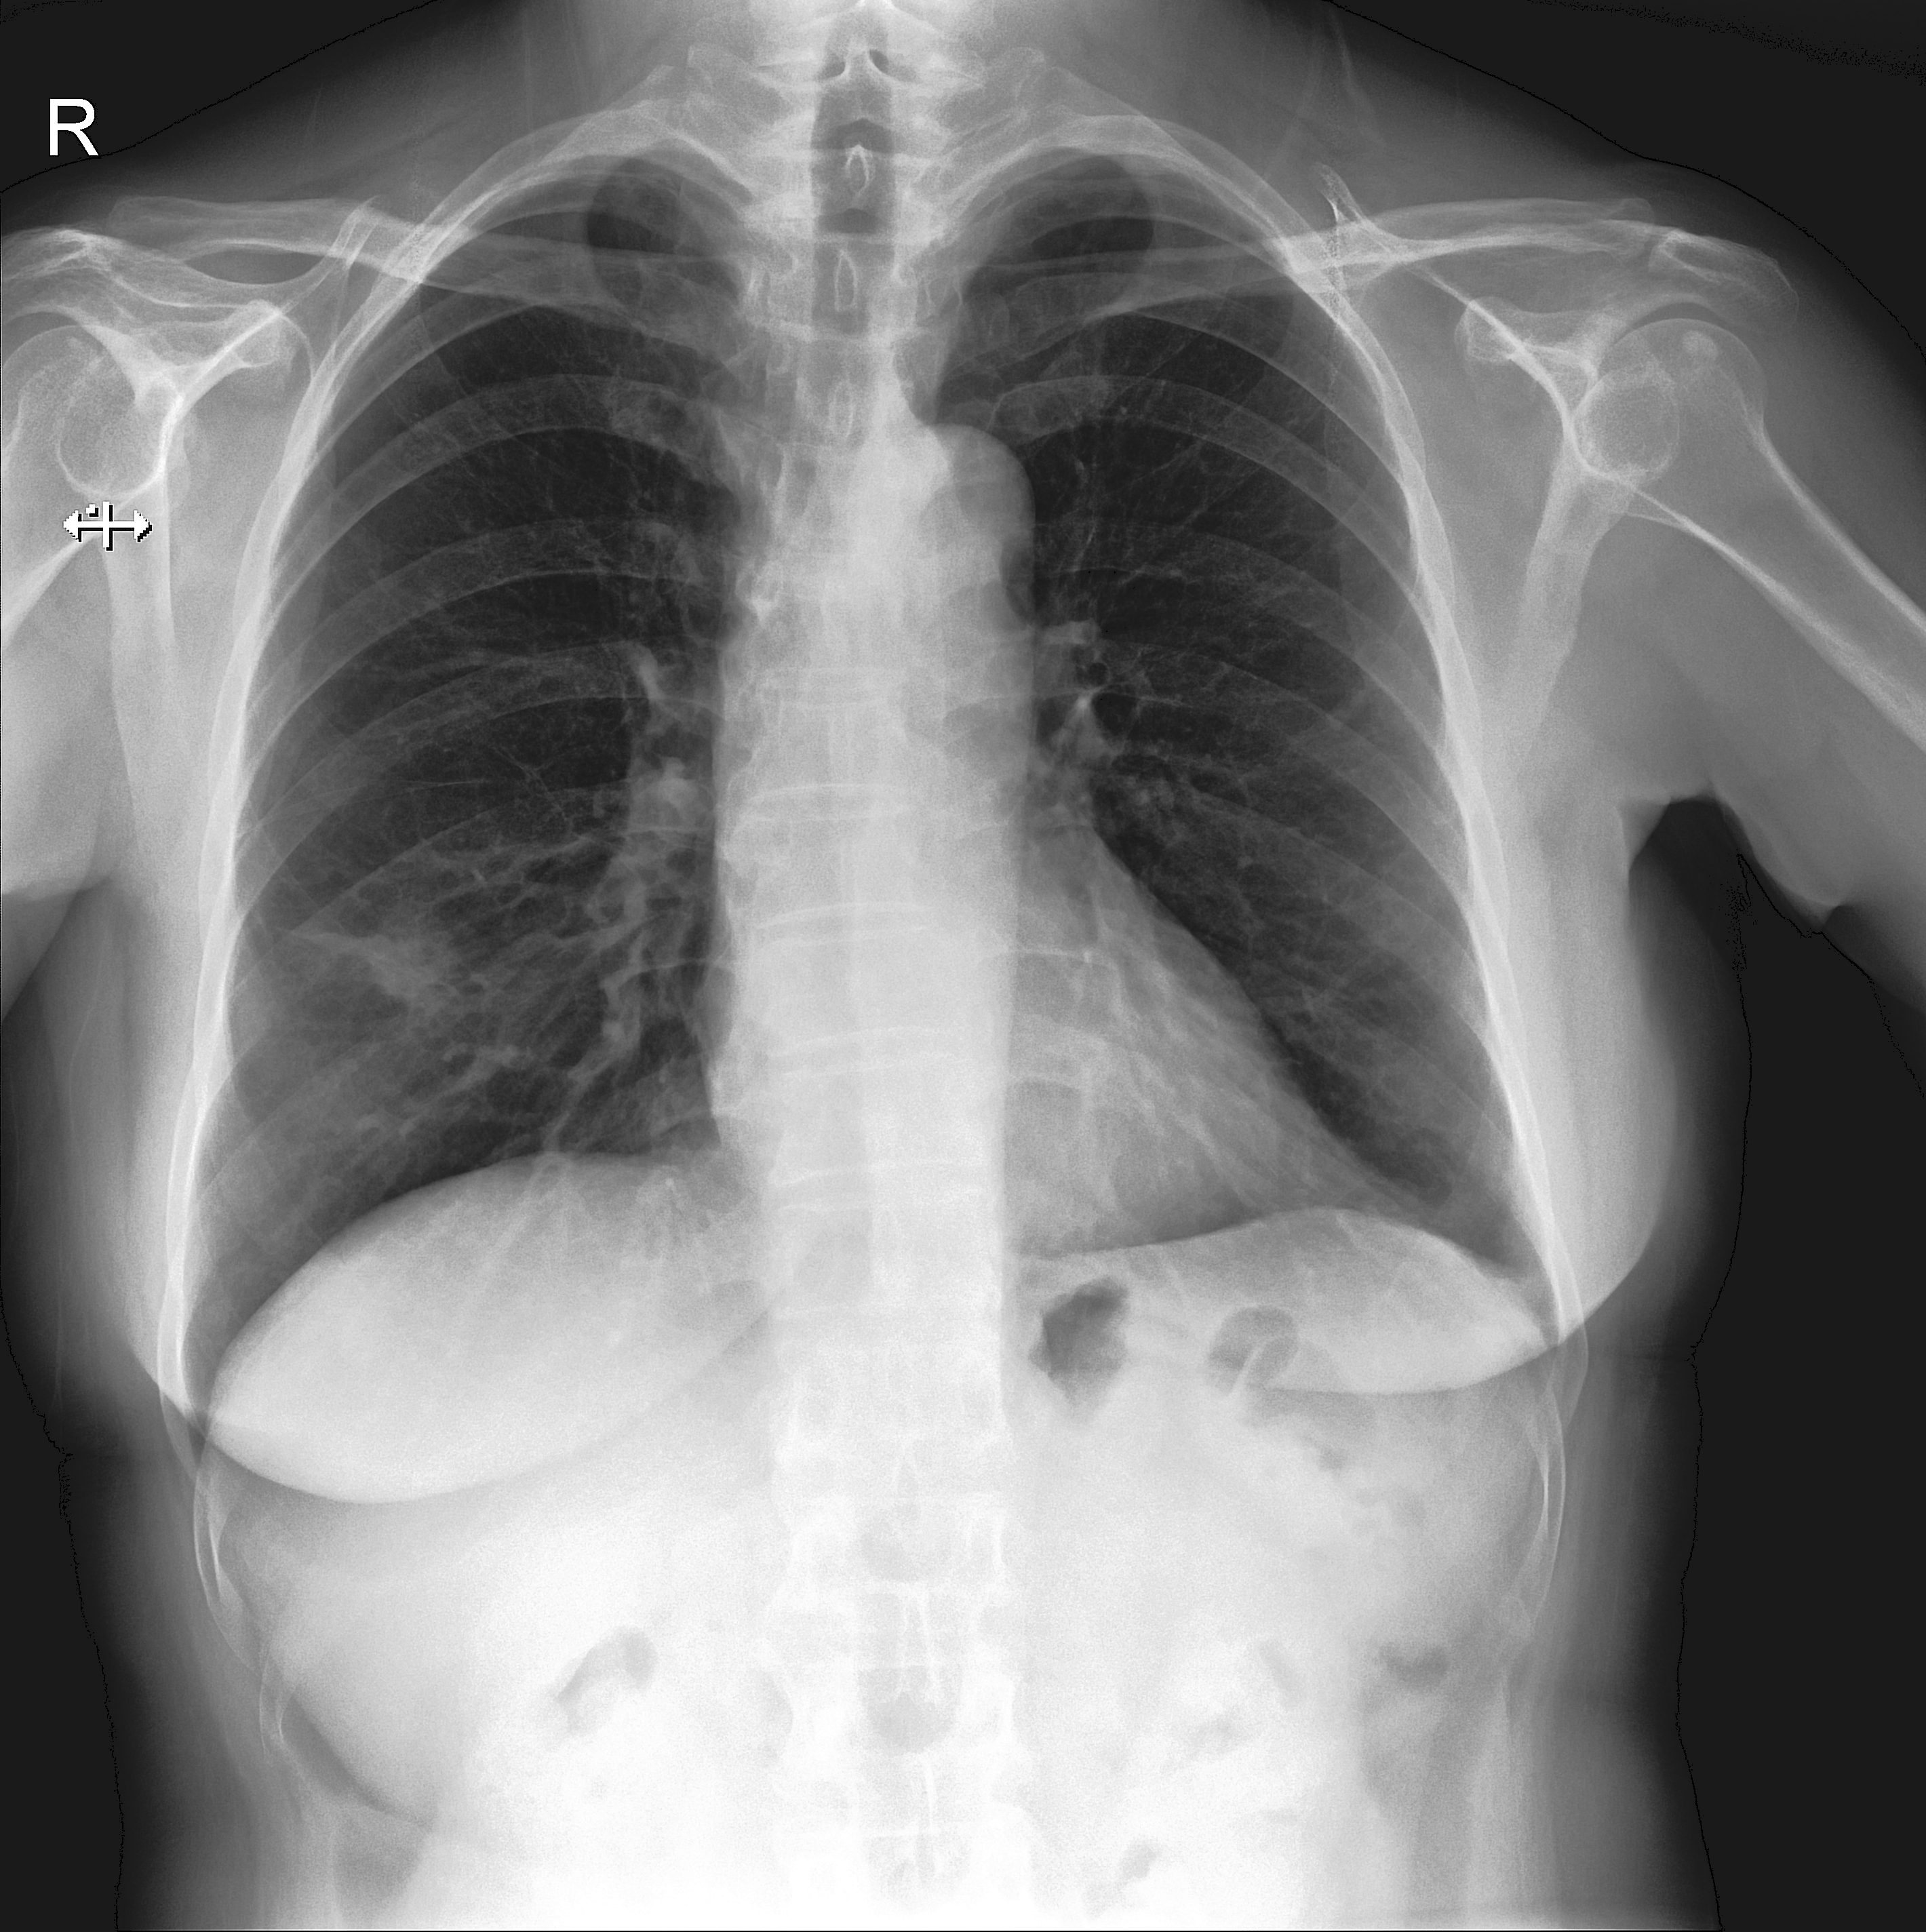nodule: (270, 829, 513, 1059)
